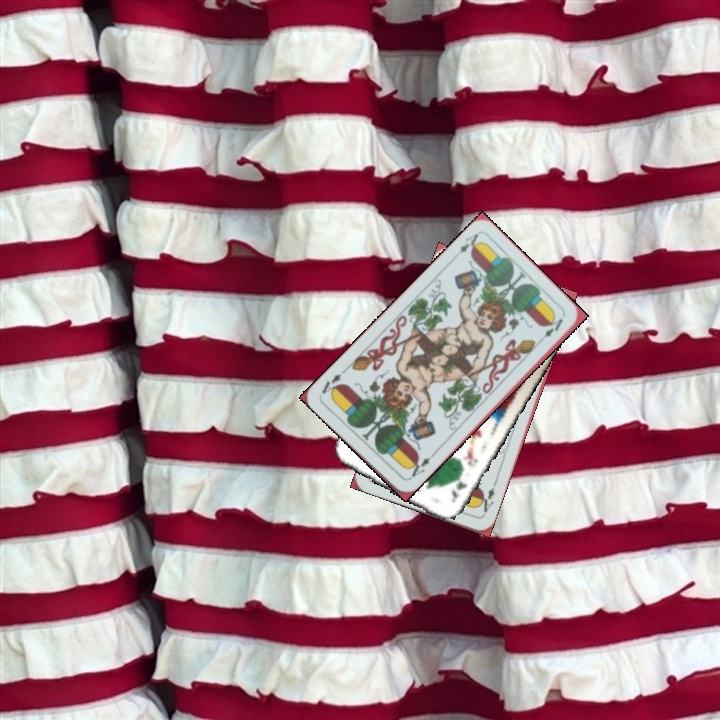EA: (449, 229, 483, 262), (403, 450, 437, 482), (474, 484, 497, 518)
GK: (447, 468, 469, 505)
